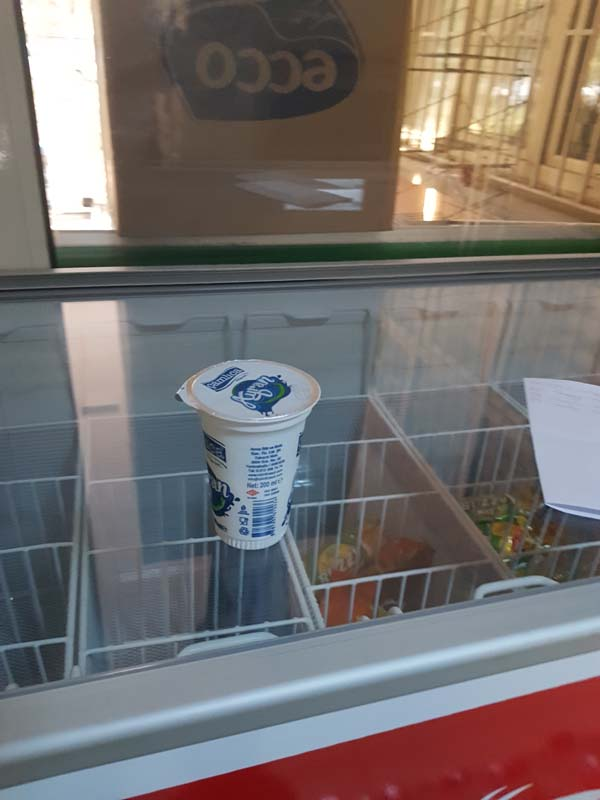camlicaayran: (171, 353, 330, 561)
